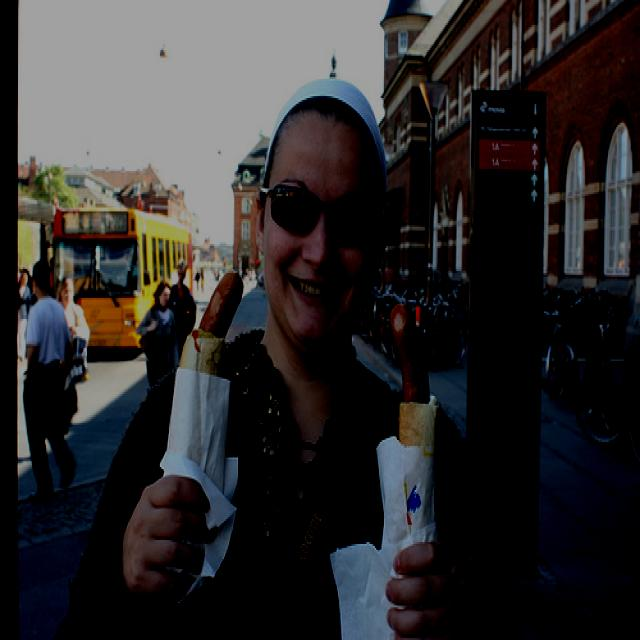Vehicle: (52, 206, 188, 348)
